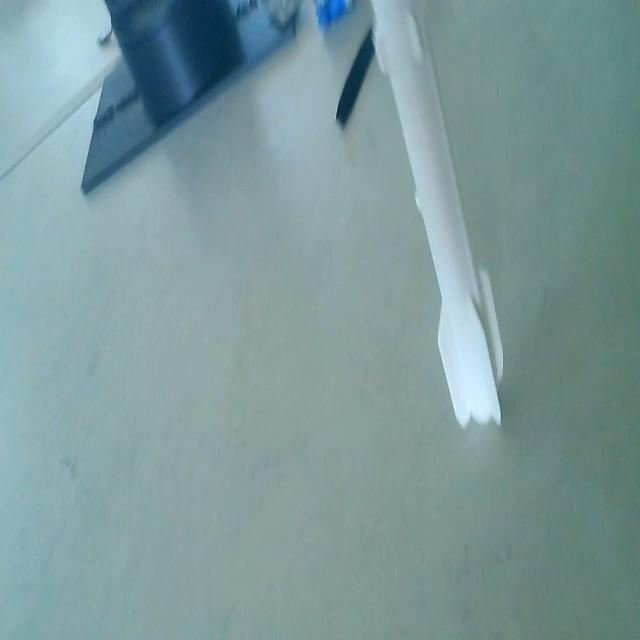Rocket: (361, 0, 505, 431)
